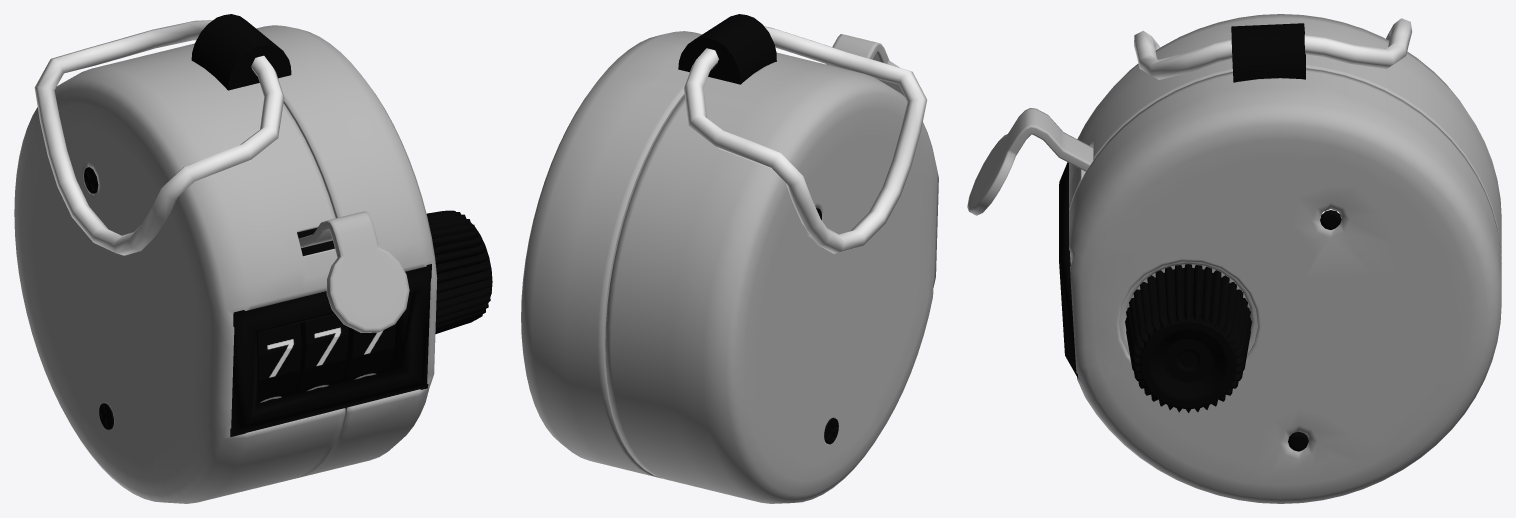
File: tally.glb
3 views of the same model, side by side, from view 1: azimuth 30°, elevation 25°; view 2: azimuth 150°, elevation 25°; view 3: azimuth 270°, elevation 25° (orthographic).
Parts seen in each view (by area): view 1: body, ring, button, digit_1, digit_2, digit_0; view 2: body, ring, button; view 3: body, ring, button.
Boxes of the visible parts, left/top/right/bottom form: body: left=14, top=14, right=492, bottom=503; ring: left=34, top=20, right=284, bottom=255; button: left=298, top=211, right=409, bottom=332; digit_1: left=292, top=314, right=348, bottom=394; digit_2: left=257, top=323, right=301, bottom=403; digit_0: left=339, top=323, right=396, bottom=383; body: left=521, top=14, right=938, bottom=503; ring: left=683, top=26, right=926, bottom=253; button: left=826, top=34, right=904, bottom=96; body: left=1059, top=14, right=1501, bottom=503; ring: left=1134, top=18, right=1412, bottom=79; button: left=967, top=108, right=1093, bottom=215.
Size of the model in its own units: 0.0425 by 0.0545 by 0.0603.
Materials: 4 (1 with a texture image).
